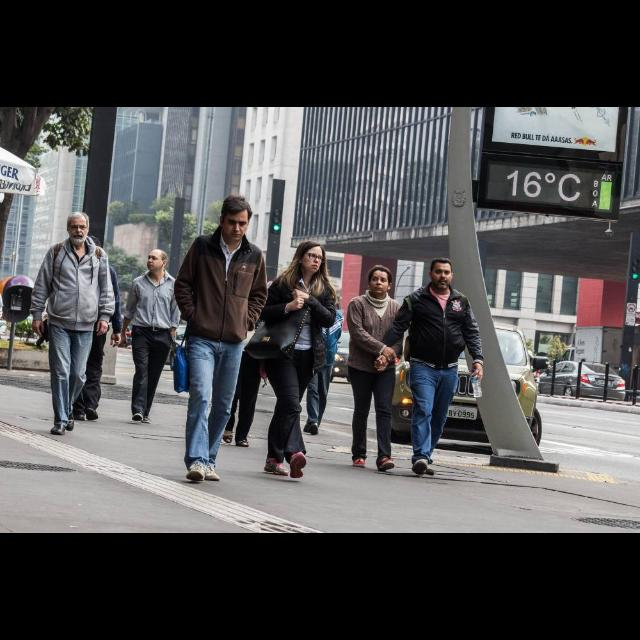head: (218, 195, 252, 243), (296, 242, 326, 274), (427, 258, 455, 292), (66, 212, 90, 246), (367, 266, 393, 296), (147, 249, 169, 271), (242, 266, 264, 286), (82, 235, 100, 259), (321, 286, 337, 306)
person: (170, 191, 270, 489), (374, 256, 488, 479), (28, 209, 120, 437), (258, 236, 339, 482), (35, 233, 125, 422), (346, 262, 408, 478), (208, 263, 278, 451), (116, 247, 186, 428), (296, 275, 348, 437)
